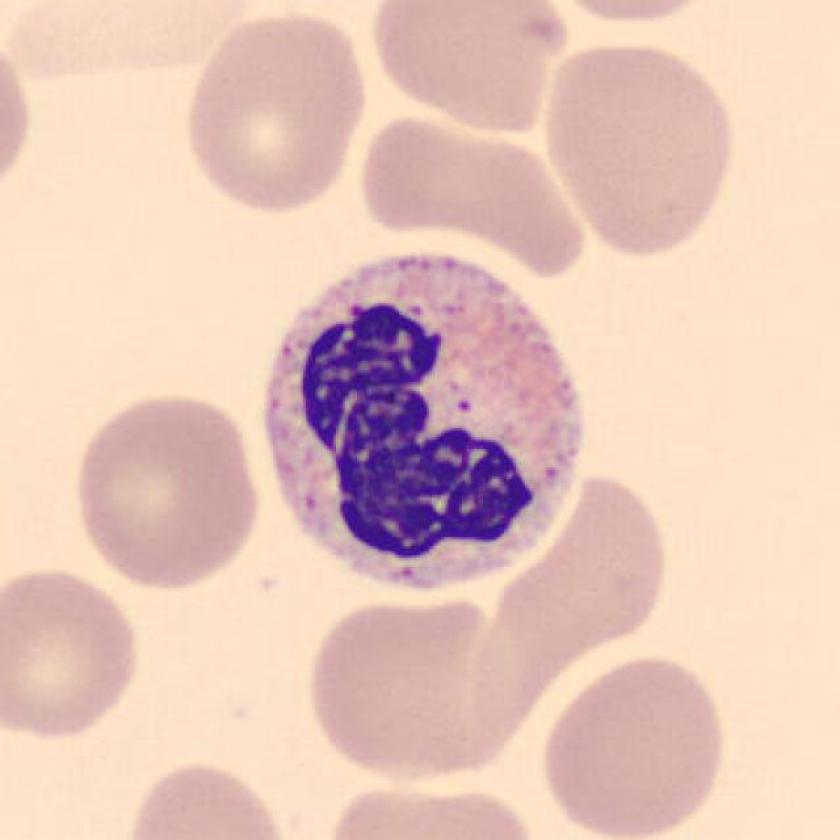neutrophil: (266, 255, 585, 596)
